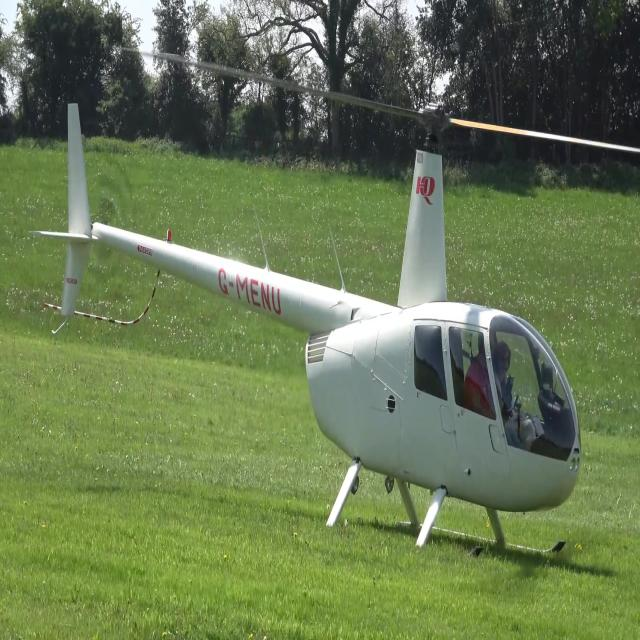CIV_HELO: (27, 98, 583, 570)
